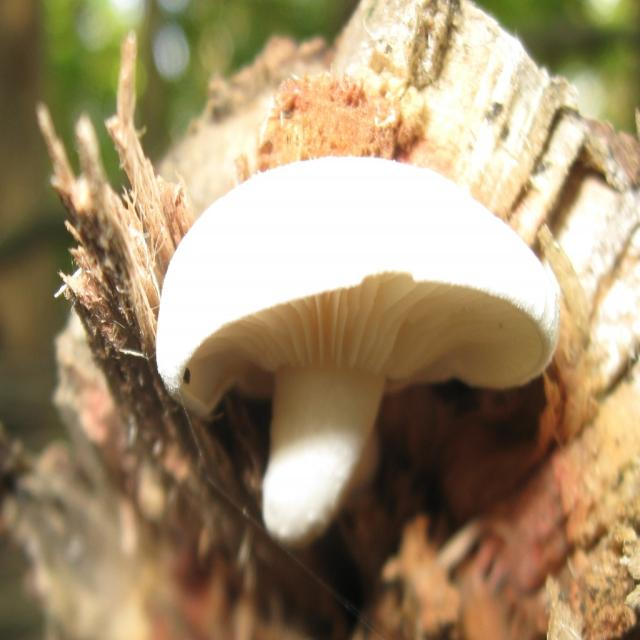Mushroom: (158, 161, 568, 595)
